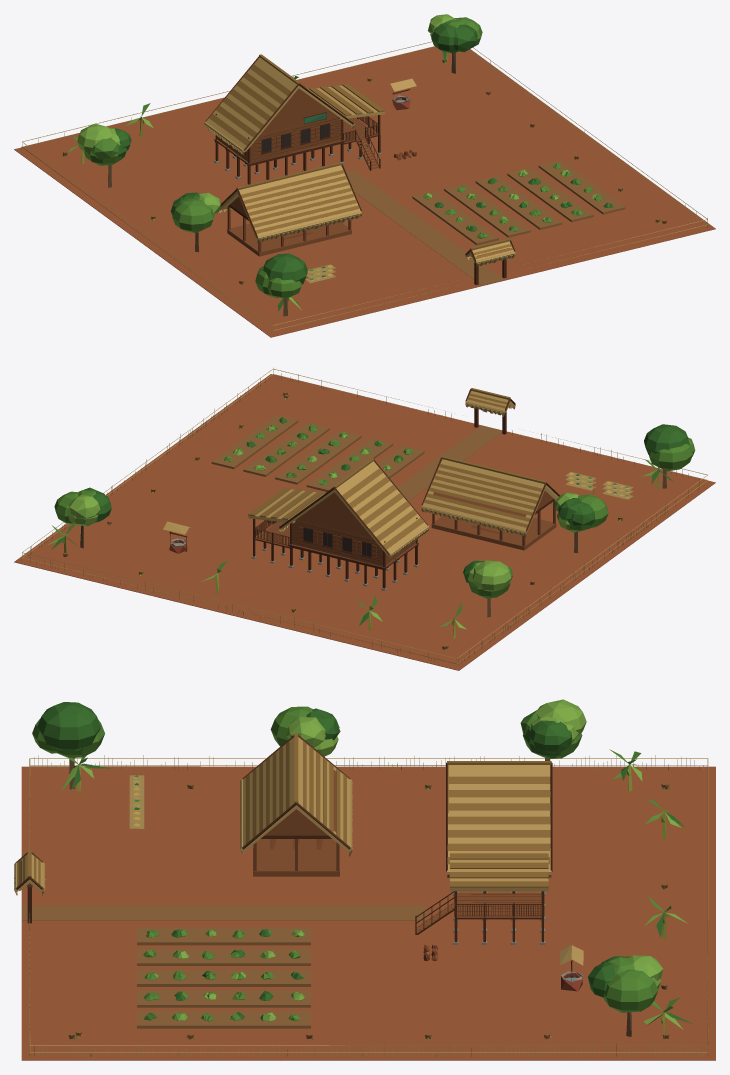
The model's file is hospital.glb.
3 renders of one model, top to bottom at view 1: azimuth 30°, elevation 25°; view 2: azimuth 150°, elevation 25°; view 3: azimuth 270°, elevation 25°, orthographic. The views are drawn at different scales.
Parts seen in each view (by area): view 1: body; view 2: body; view 3: body.
Boxes of the visible parts, x1,y1,x2,y2 form: body: (14, 14, 715, 337); body: (14, 368, 715, 670); body: (14, 699, 715, 1060).
Bounding box in the file's own units: 47.9 × 10.06 × 48.44.
